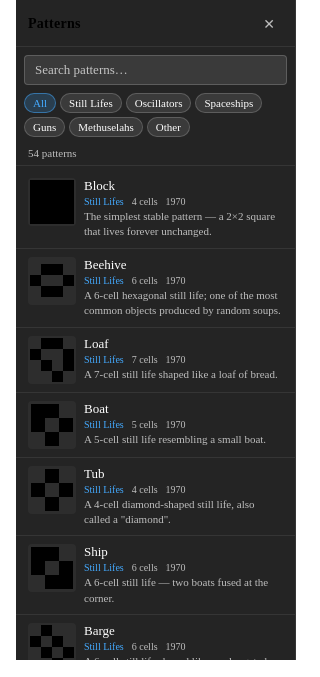
it: PatternLibrary — search › searches by description text
Type "metastable" into the search field with placeholder "Search patterns…" at (156, 70), box [24,55,287,85]
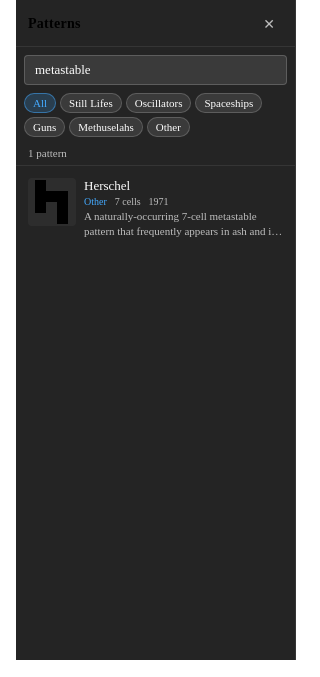
Now the list item is shown, box [16,170,295,248]
